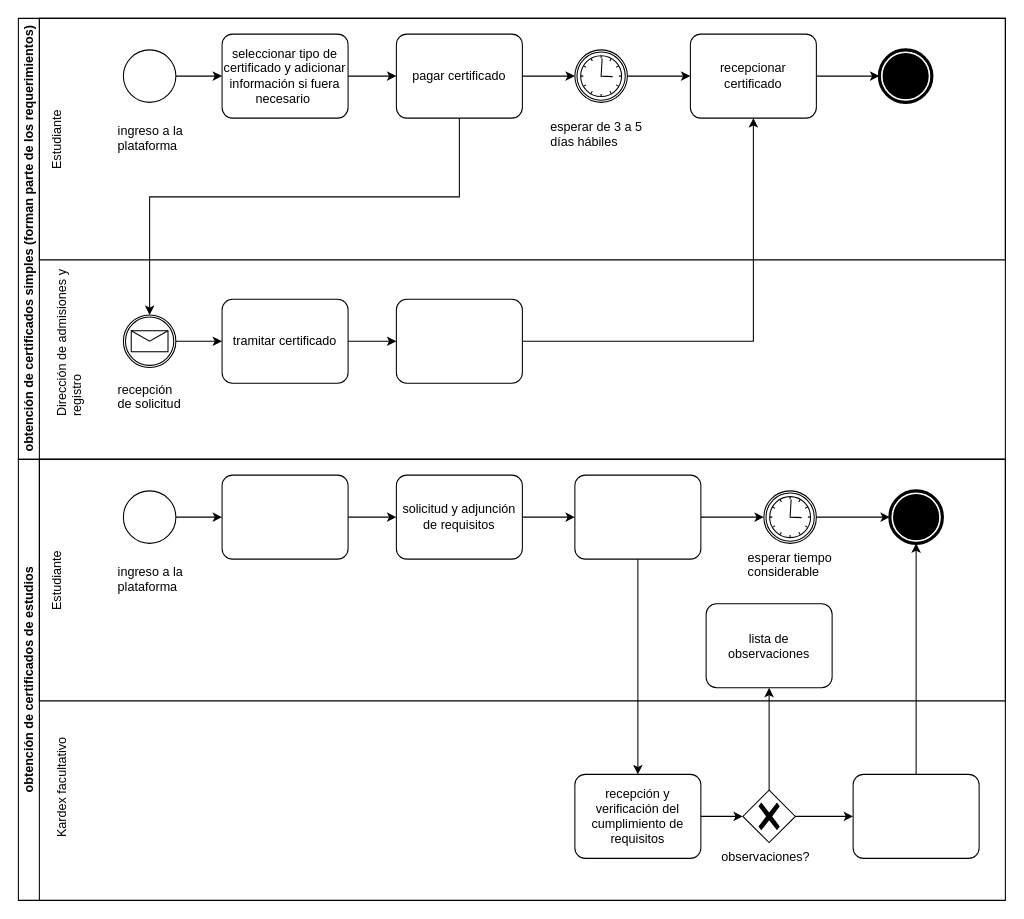
Image size: 1024x919. Some labels were removed from this diagram. Each missing label, with the centre of its shape:
"elaboración de carta de solicitud" belongs at (x=284, y=516).
"emitir certificado" belongs at (x=458, y=340).
"presentación de requisitos de manera física" belongs at (x=637, y=516).
"recepción de folder y proceso de preparación" belongs at (x=915, y=815).
